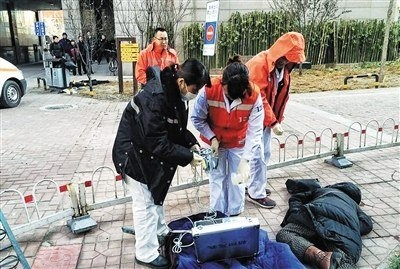falling: (266, 170, 381, 269)
